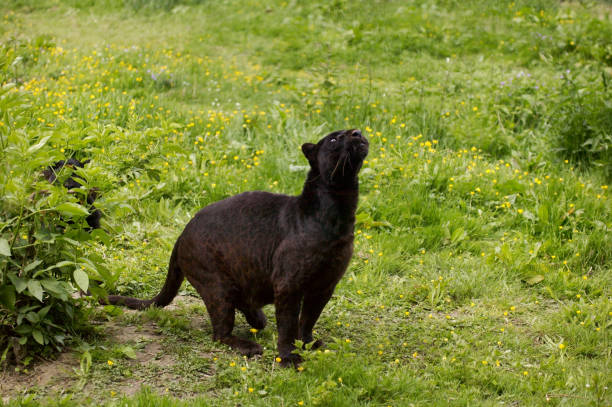panther: (291, 122, 375, 198)
